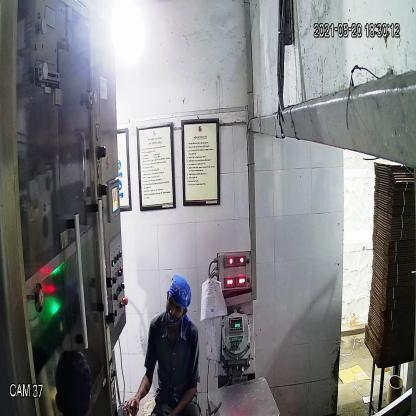no_goggles: (164, 295, 184, 318)
